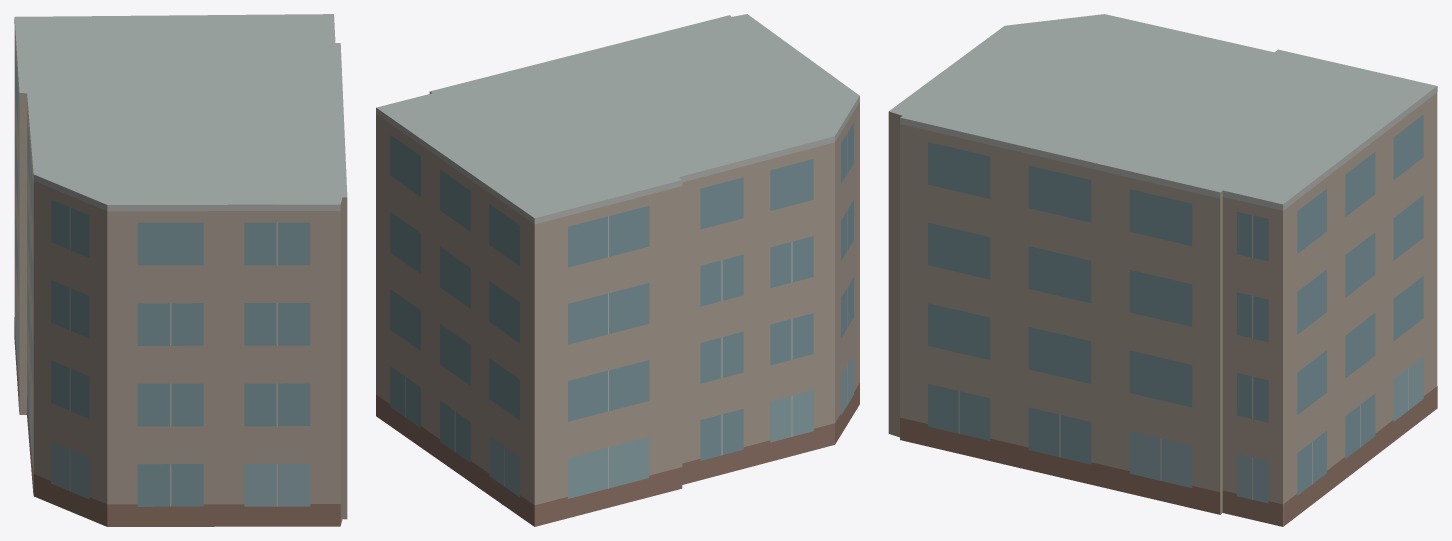
The model's file is survey-upis-32810799.glb.
3 views of the same model, side by side, from view 1: azimuth 30°, elevation 25°; view 2: azimuth 150°, elevation 25°; view 3: azimuth 270°, elevation 25° (orthographic). The views are drawn at different scales.
Parts seen in each view (by area): view 1: survey-upis-32810799.tmp; view 2: survey-upis-32810799.tmp; view 3: survey-upis-32810799.tmp.
Part boxes in pixels (bbox=[...]): survey-upis-32810799.tmp: bbox=[14, 14, 347, 526]; survey-upis-32810799.tmp: bbox=[376, 14, 859, 526]; survey-upis-32810799.tmp: bbox=[888, 14, 1437, 526].
Bounding box in the file's own units: 15.71 × 12.4 × 19.14.
